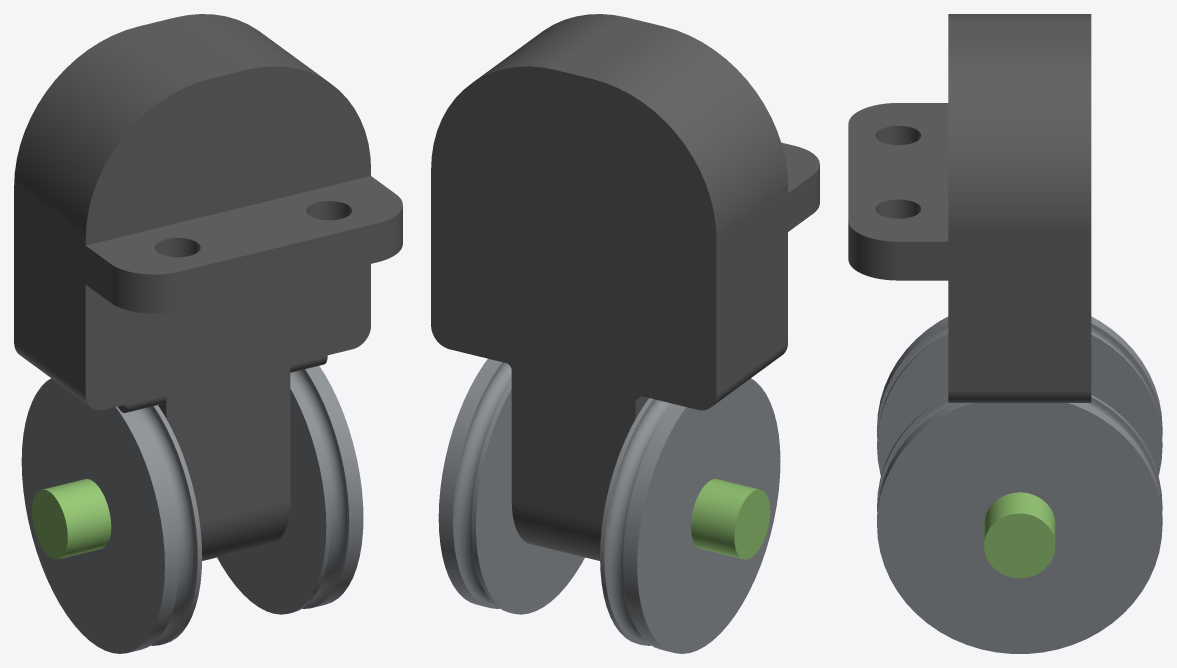
Rendered from distal.gltf.
3 renders of one model, left to right at view 1: azimuth 30°, elevation 25°; view 2: azimuth 150°, elevation 25°; view 3: azimuth 270°, elevation 25°, orthographic.
Parts seen in each view (by area): view 1: Part 1 (×4); view 2: Part 1 (×4); view 3: Part 1 (×4).
Boxes of the visible parts, bbox=[...] form: Part 1 (×4): bbox=[14, 14, 402, 653]; Part 1 (×4): bbox=[431, 14, 819, 653]; Part 1 (×4): bbox=[848, 14, 1162, 653].
Size of the model in its own units: 0.023 by 0.044 by 0.022.
